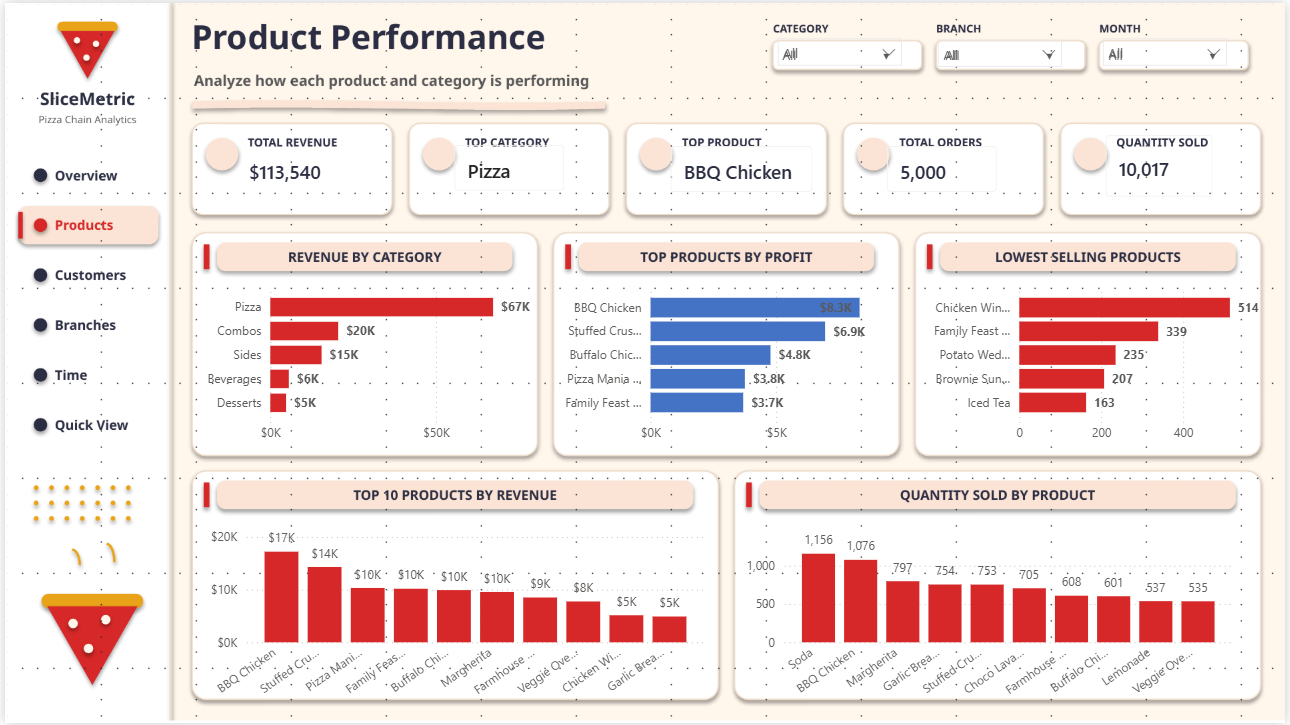

The page's visual inventory and layout, read from the dashboard file:
{"tool":"powerbi","page":{"name":"Product Performance","canvas":[1280,720],"ordinal":2},"visuals":[{"type":"cardVisual","fields":{"Data":["_Measures.Total Sales"]},"box":[215,128,144,80],"z":0},{"type":"cardVisual","fields":{"Data":["_Measures.Top Category"]},"box":[432,125,144,80],"z":1000},{"type":"cardVisual","fields":{"Data":["_Measures.Top Product"]},"box":[649,126,176,80],"z":2000},{"type":"cardVisual","fields":{"Data":["_Measures.Total Orders"]},"box":[865,126,144,80],"z":3000},{"type":"cardVisual","fields":{"Data":["_Measures.Total Quantity"]},"box":[1084,115,141,96],"z":4000},{"type":"clusteredBarChart","fields":{"Y":["_Measures.Total Sales"],"Category":["Orders.Category"]},"box":[192,272,352,176],"z":5000},{"type":"clusteredBarChart","fields":{"Category":["Orders.Product Name"],"Y":["_Measures.Total Profit"]},"box":[544,272,352,176],"z":6000},{"type":"clusteredColumnChart","fields":{"Category":["Orders.Product Name"],"Y":["_Measures.Total Sales"]},"box":[192,512,512,192],"z":7000},{"type":"clusteredColumnChart","fields":{"Category":["Orders.Product Name"],"Y":["_Measures.Total Quantity"]},"box":[736,512,496,192],"z":8000},{"type":"slicer","fields":{"Values":["Orders.Category"]},"box":[762,25,144,80],"z":9000},{"type":"slicer","fields":{"Values":["Orders.Branch"]},"box":[923,26,144,80],"z":10000},{"type":"slicer","fields":{"Values":["Orders.Month"]},"box":[1088,25,144,80],"z":11000},{"type":"clusteredBarChart","fields":{"Category":["Orders.Product Name"],"Y":["_Measures.Total Quantity"]},"box":[912,272,352,176],"z":12000},{"type":"actionButton","box":[16,208,144,32],"z":13000},{"type":"actionButton","box":[16,160,128,32],"z":14000},{"type":"actionButton","box":[16,256,128,32],"z":15000},{"type":"actionButton","box":[16,304,144,32],"z":16000},{"type":"actionButton","box":[16,352,112,32],"z":17000},{"type":"actionButton","box":[16,400,144,32],"z":18000}]}

Visuals, with their boxes in screenshot pixels (x1, y1, x2, y2), scaled from the page's 1280x720 canvas onto the 1290x725 screenshot:
cardVisual - _Measures.Total Sales: {"left": 217, "top": 129, "right": 362, "bottom": 209}
cardVisual - _Measures.Top Category: {"left": 435, "top": 126, "right": 580, "bottom": 206}
cardVisual - _Measures.Top Product: {"left": 654, "top": 127, "right": 831, "bottom": 207}
cardVisual - _Measures.Total Orders: {"left": 872, "top": 127, "right": 1017, "bottom": 207}
cardVisual - _Measures.Total Quantity: {"left": 1092, "top": 116, "right": 1235, "bottom": 212}
clusteredBarChart - _Measures.Total Sales x Orders.Category: {"left": 194, "top": 274, "right": 548, "bottom": 451}
clusteredBarChart - Orders.Product Name x _Measures.Total Profit: {"left": 548, "top": 274, "right": 903, "bottom": 451}
clusteredColumnChart - Orders.Product Name x _Measures.Total Sales: {"left": 194, "top": 516, "right": 710, "bottom": 709}
clusteredColumnChart - Orders.Product Name x _Measures.Total Quantity: {"left": 742, "top": 516, "right": 1242, "bottom": 709}
slicer - Orders.Category: {"left": 768, "top": 25, "right": 913, "bottom": 106}
slicer - Orders.Branch: {"left": 930, "top": 26, "right": 1075, "bottom": 107}
slicer - Orders.Month: {"left": 1096, "top": 25, "right": 1242, "bottom": 106}
clusteredBarChart - Orders.Product Name x _Measures.Total Quantity: {"left": 919, "top": 274, "right": 1274, "bottom": 451}
actionButton: {"left": 16, "top": 209, "right": 161, "bottom": 242}
actionButton: {"left": 16, "top": 161, "right": 145, "bottom": 193}
actionButton: {"left": 16, "top": 258, "right": 145, "bottom": 290}
actionButton: {"left": 16, "top": 306, "right": 161, "bottom": 338}
actionButton: {"left": 16, "top": 354, "right": 129, "bottom": 387}
actionButton: {"left": 16, "top": 403, "right": 161, "bottom": 435}
